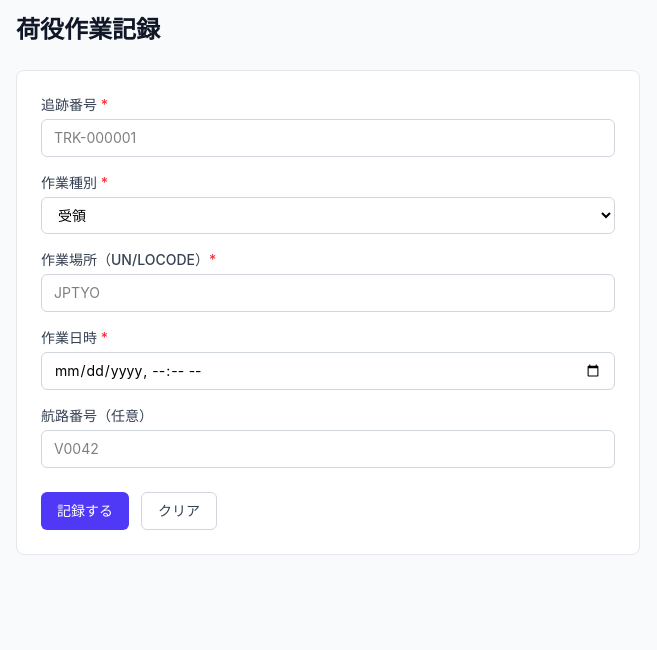
Test: HandlingActivityPage › CLAIM 選択時に荷受人確認フィールドが表示される
Check: the field labelled "荷受人確認" is not shown
# CLAIM を選択
Select "引取" in the dropdown showing "受領" at (328, 216), box x1=41 y1=197 x2=615 y2=234
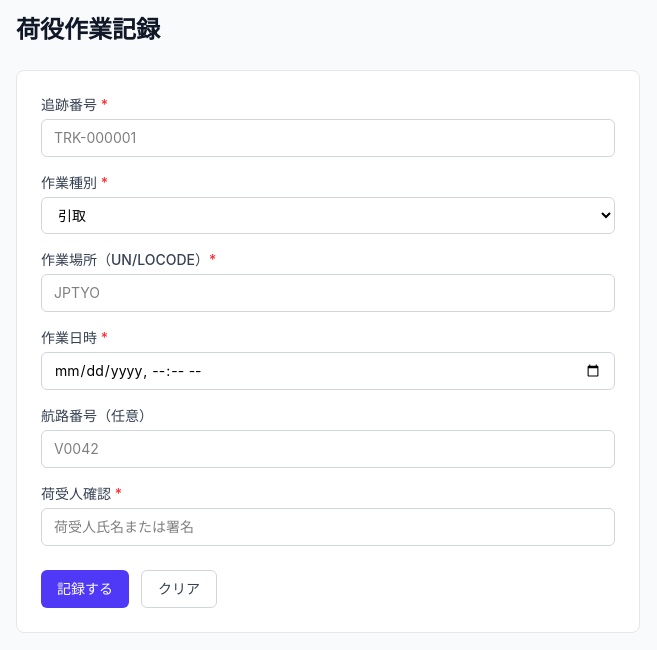
Check: the field labelled "荷受人確認 *" is shown, box x1=41 y1=508 x2=615 y2=546
